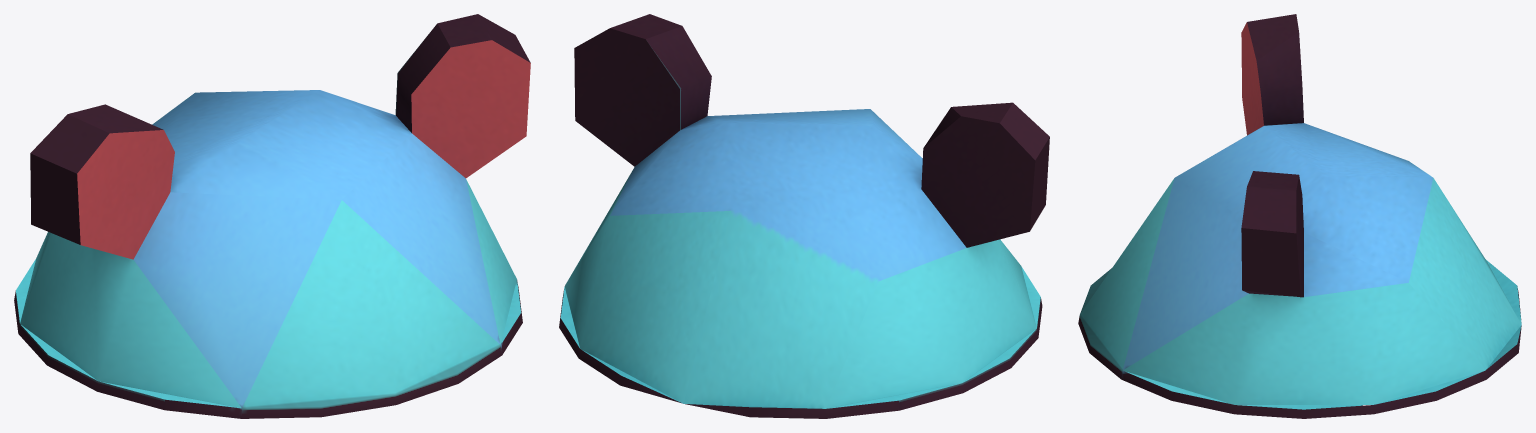
File: MickeyHat.FBX
3 views of the same model, side by side, from view 1: azimuth 30°, elevation 25°; view 2: azimuth 150°, elevation 25°; view 3: azimuth 270°, elevation 25° (orthographic). The views are drawn at different scales.
Visible parts, largest first — view 1: MickeyHat; view 2: MickeyHat; view 3: MickeyHat.
Boxes of the visible parts, <box> form: MickeyHat: <box>14,14,530,418</box>; MickeyHat: <box>559,14,1049,418</box>; MickeyHat: <box>1078,14,1521,418</box>.
Size of the model in its own units: 258 by 232 by 128.
Materials: 1 (1 with a texture image).
